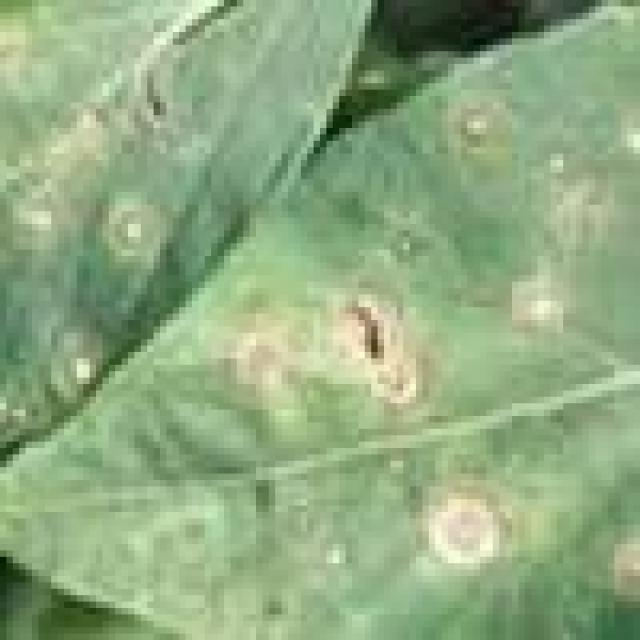bercak_daun: (0, 237, 640, 608), (4, 11, 302, 466)
